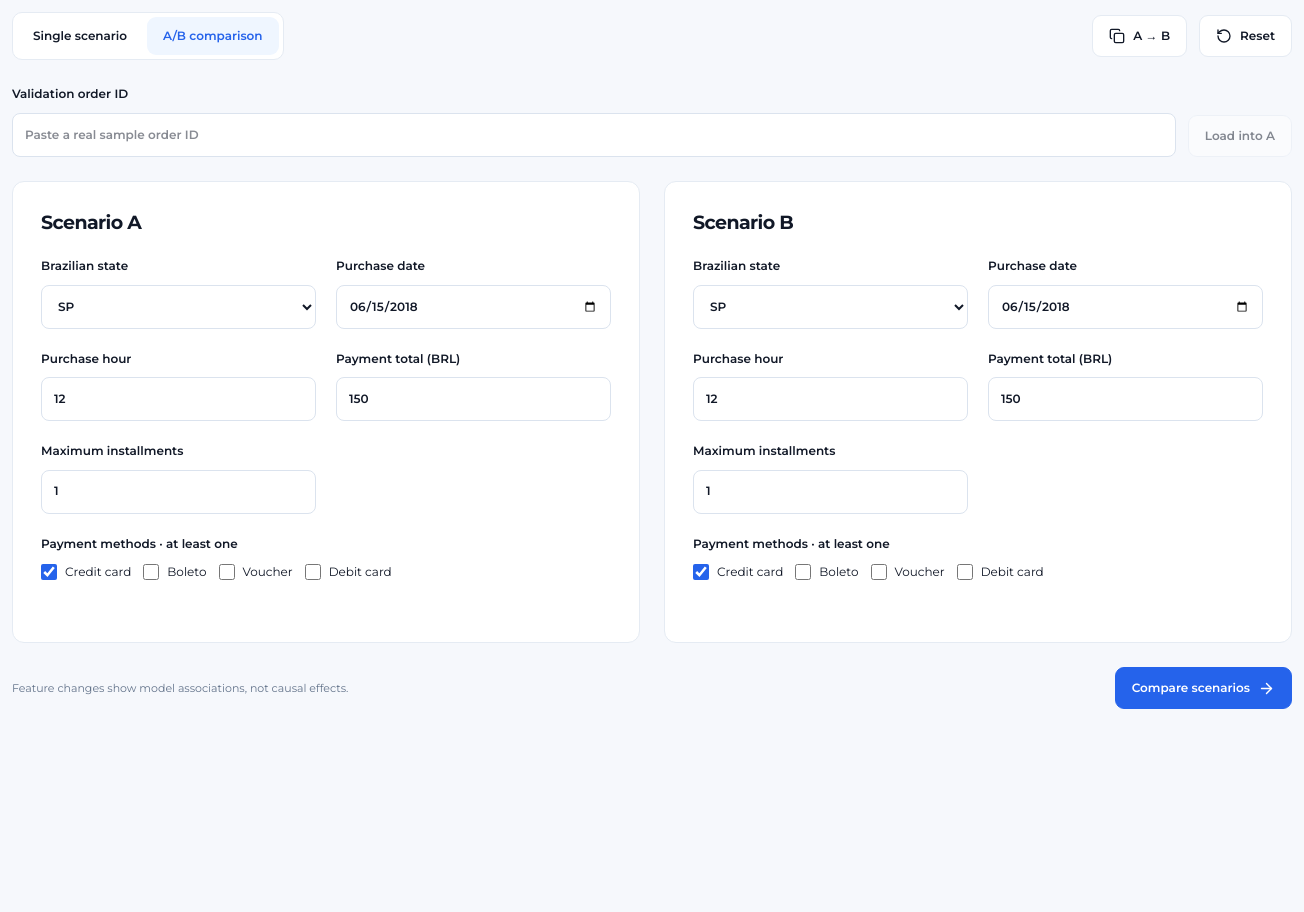
Test case: API contract and scenarios › loads nullable sample payments without replacing with zero
In the field labelled "Validation order ID": {"x": 594, "y": 135} [12,113,1176,157], type "sample"
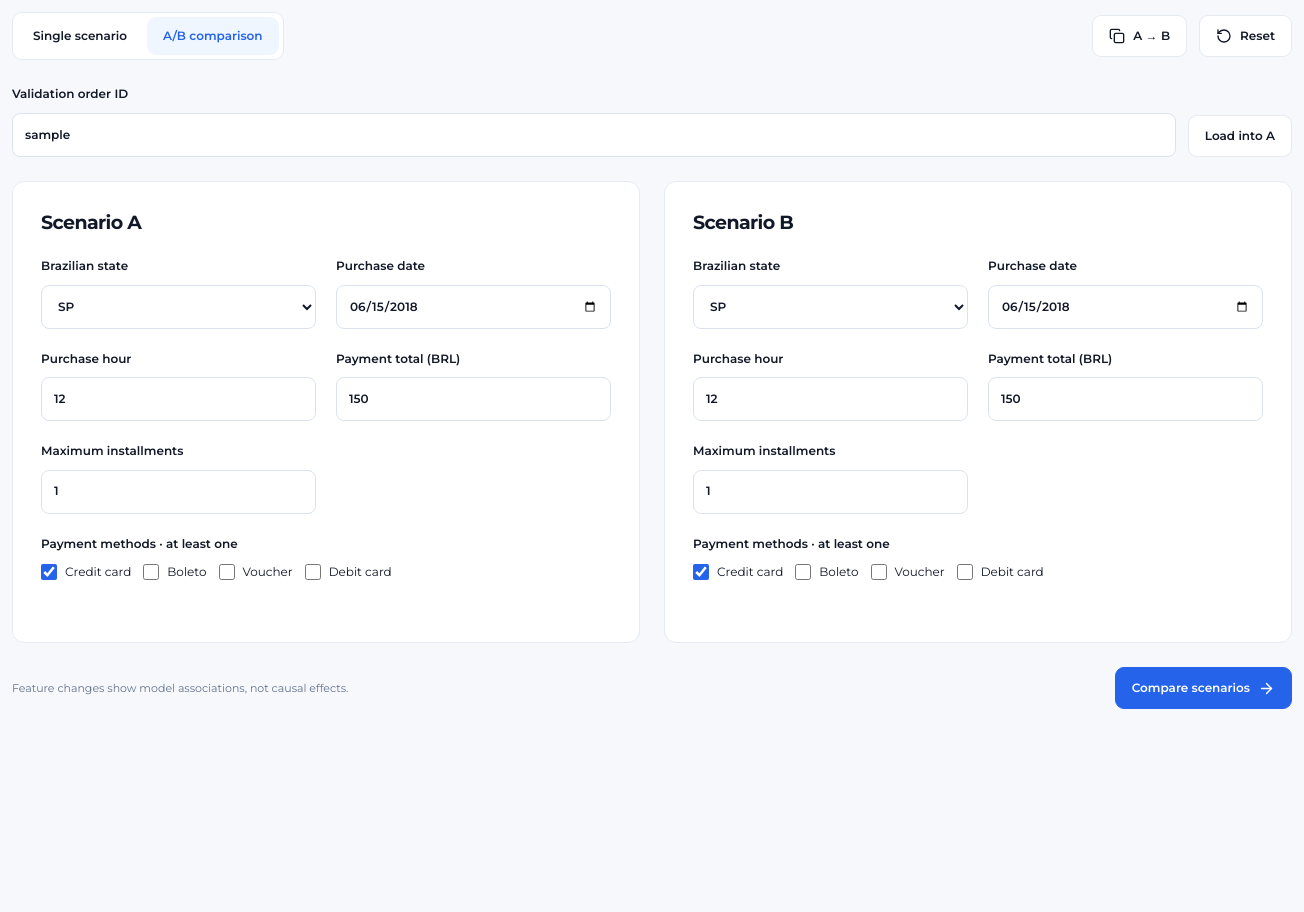
Click the button "Load into A": {"x": 1240, "y": 136} [1188,115,1292,157]
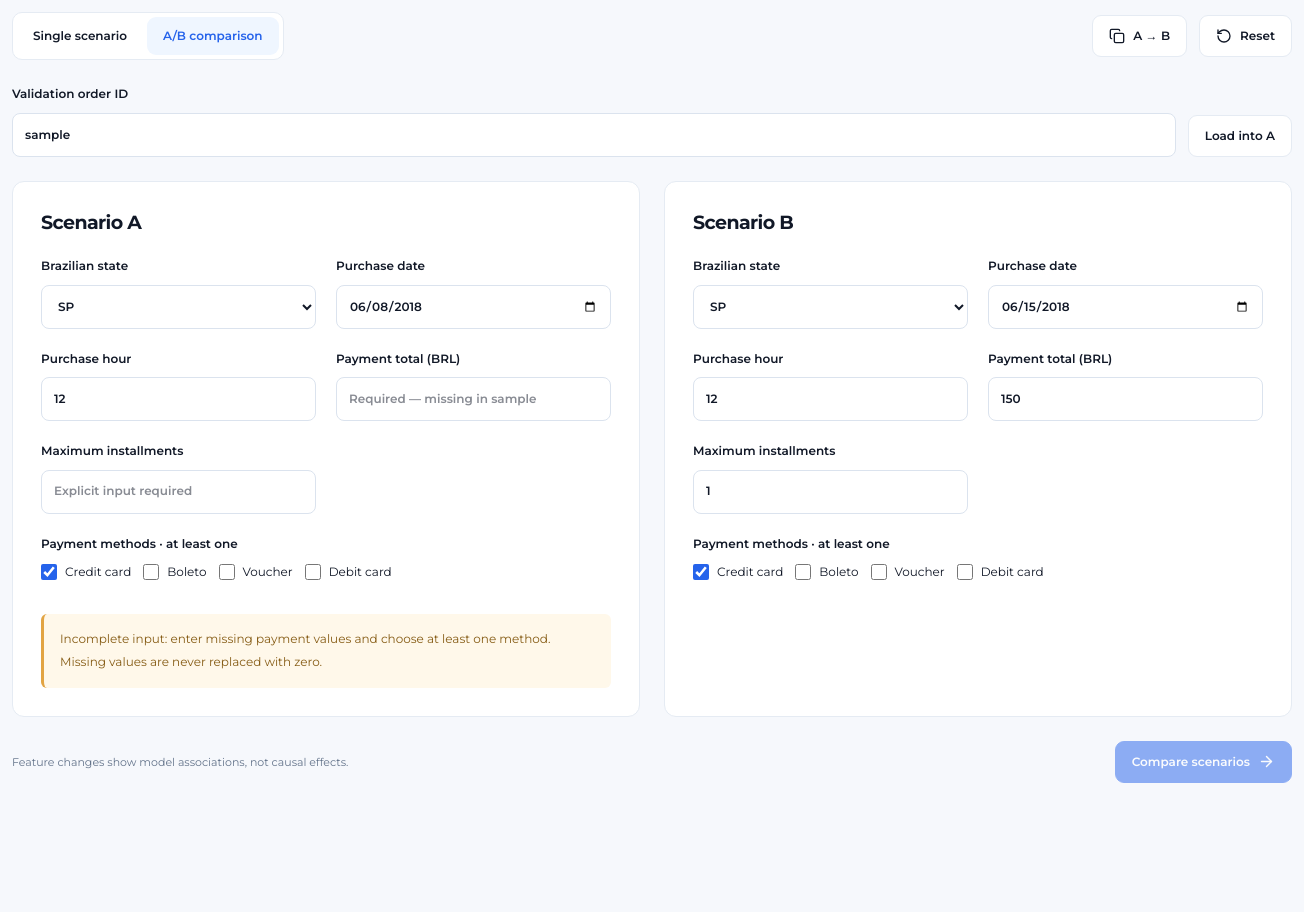
Now the text "Incomplete input" is shown, box [60,631,550,669]
Now the button "Compare scenarios" is disabled, box [1115,741,1292,783]
